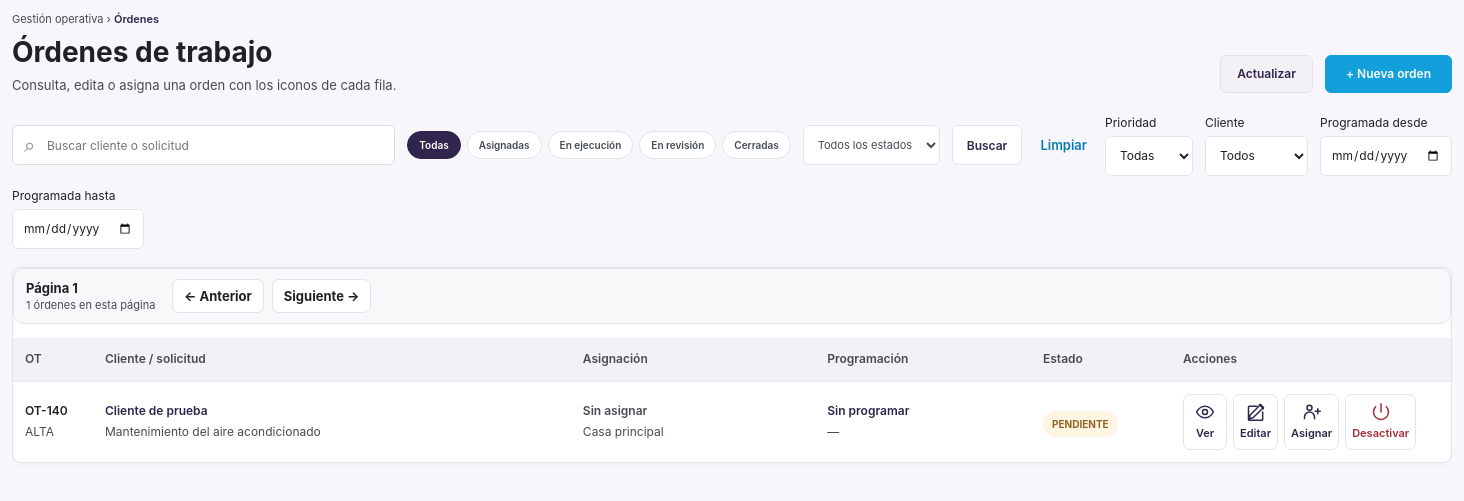
Scenario: Gestión web de órdenes de trabajo › aplica prioridad, cliente y fechas automáticamente y permite restablecerlos
Expected: the text "OT-140" is shown, [25,403,68,418]
Select "Urgente" in the dropdown named "Filtrar prioridad" at (1149, 156), box [1105,136,1193,176]
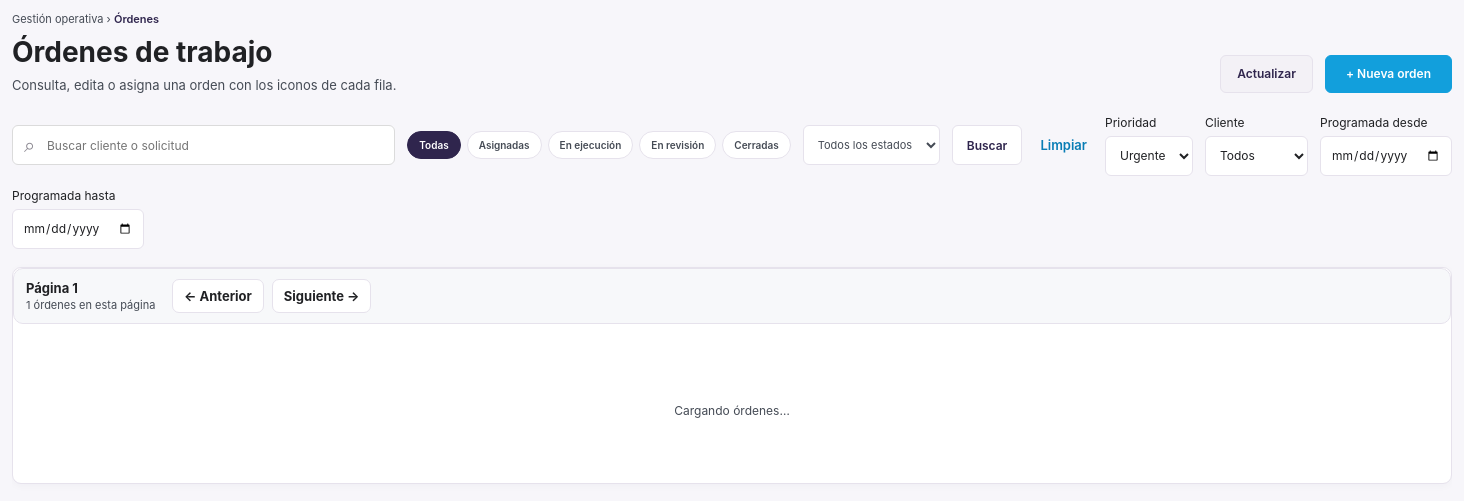
Select "Ana López" in the dropdown named "Filtrar cliente" at (1256, 156), box [1205,136,1308,176]
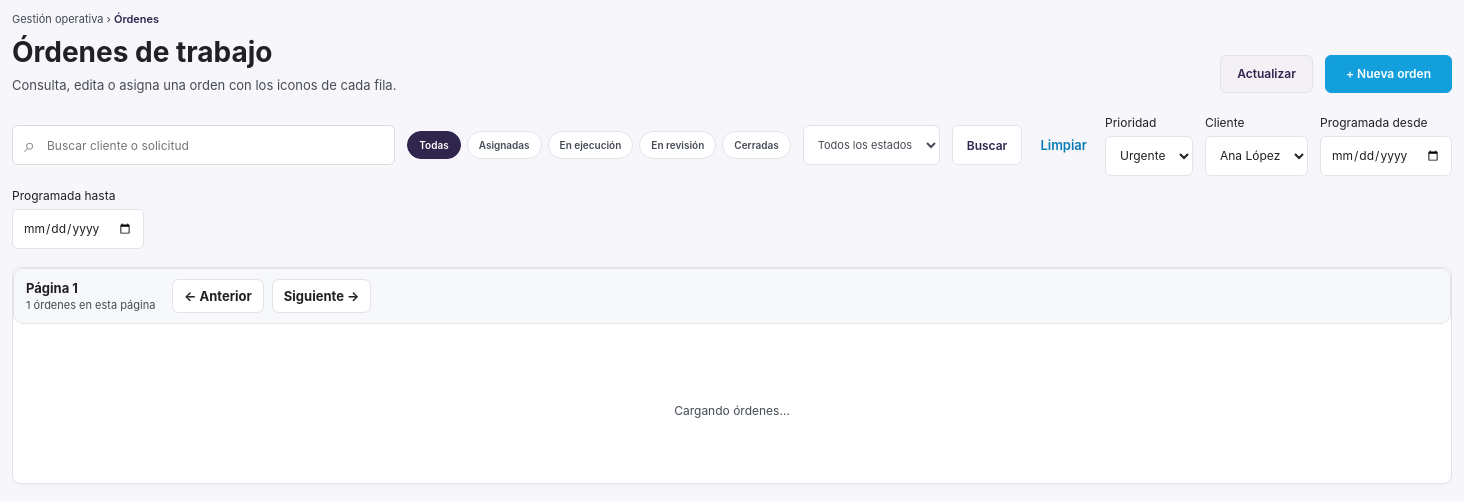
Type "2026-10-01" into the date field labelled "Programada desde" at (1386, 156), box [1320,136,1452,176]
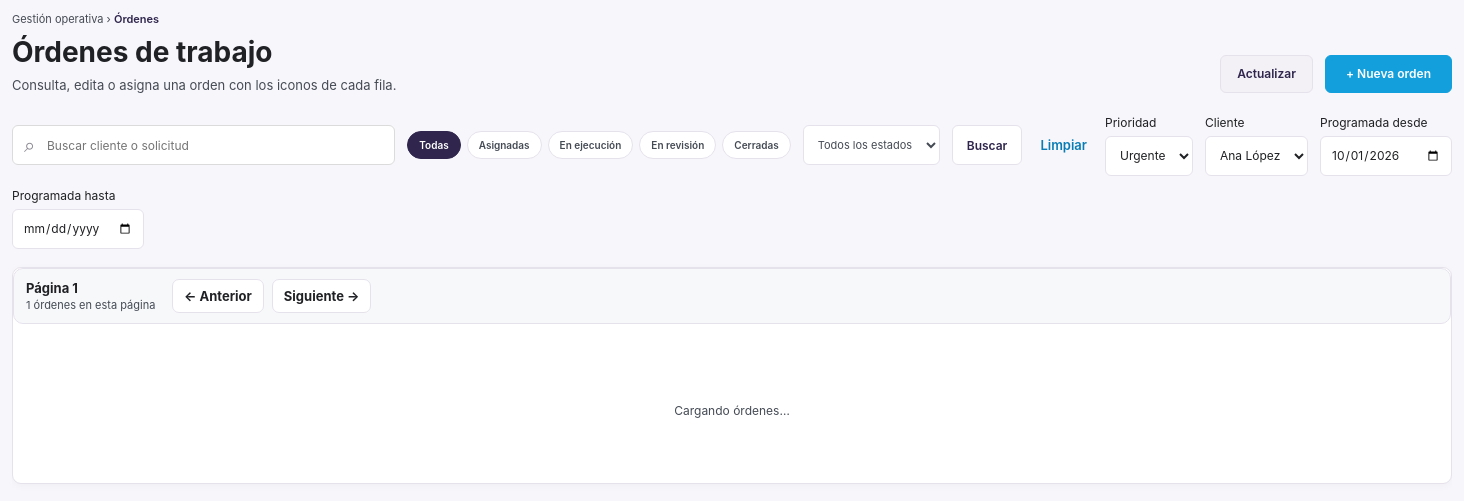
Type "2026-10-31" into the date field labelled "Programada hasta" at (78, 229), box [12,209,144,249]
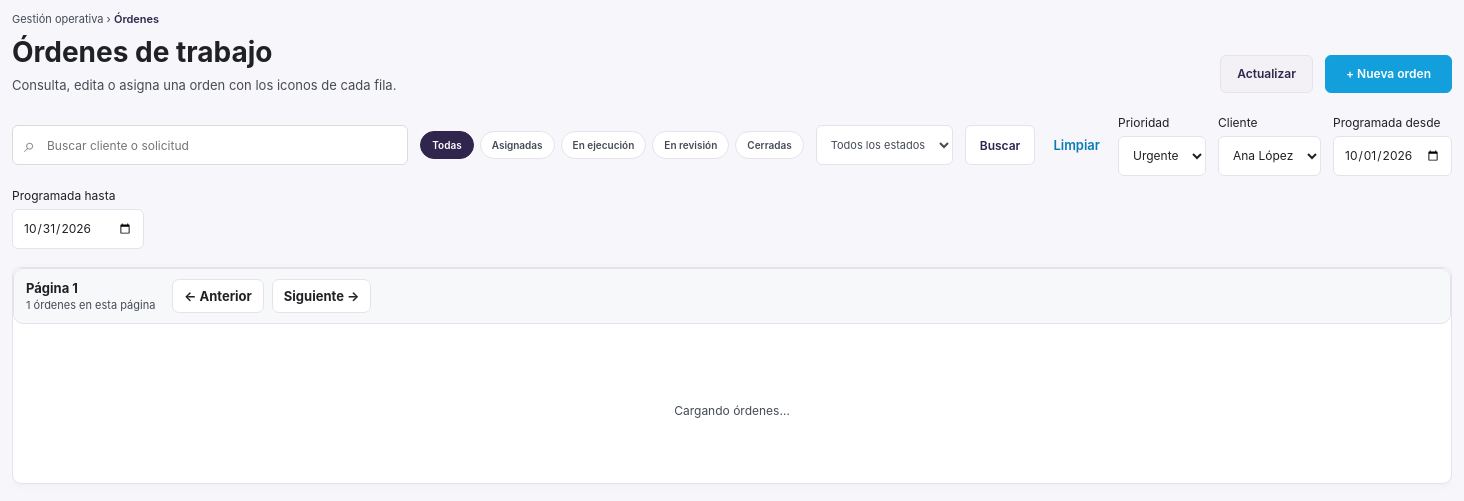
Click the button "Limpiar" at (1077, 145), box [1047,136,1106,154]
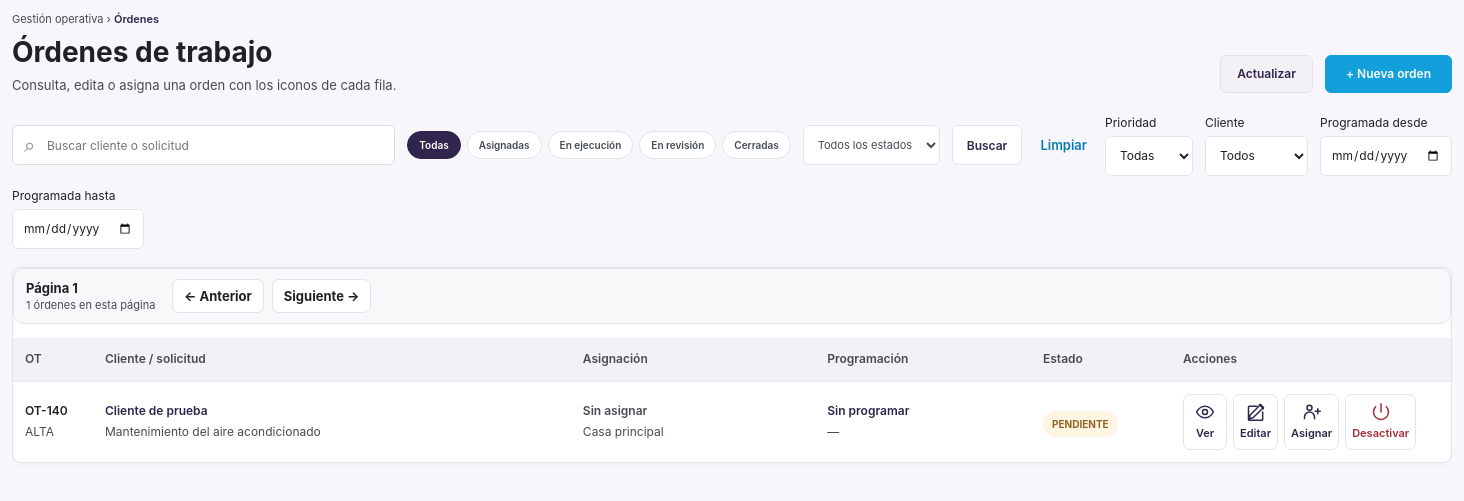
Now the date field labelled "Programada desde" is empty, box [1320,136,1452,176]
